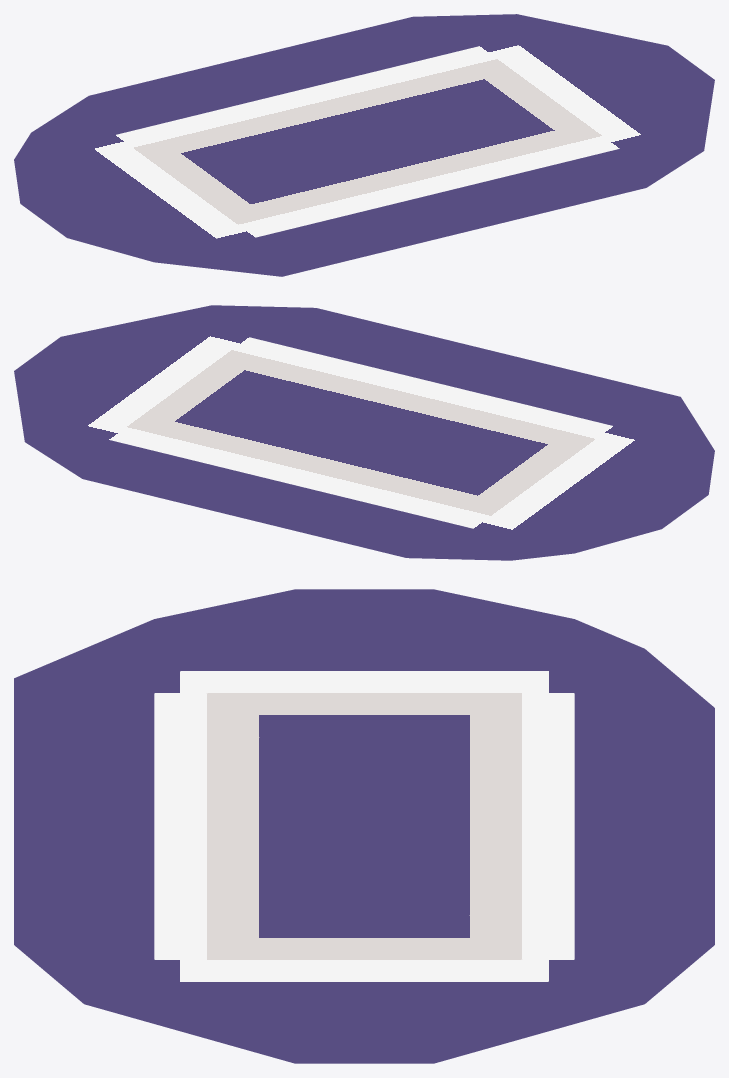
The model's file is carpet_00.gltf.
3 renders of one model, top to bottom at view 1: azimuth 30°, elevation 25°; view 2: azimuth 150°, elevation 25°; view 3: azimuth 270°, elevation 25°, orthographic. The views are drawn at different scales.
Size of the model in its own units: 8 by 0 by 5.
1 material, 1 textured.
